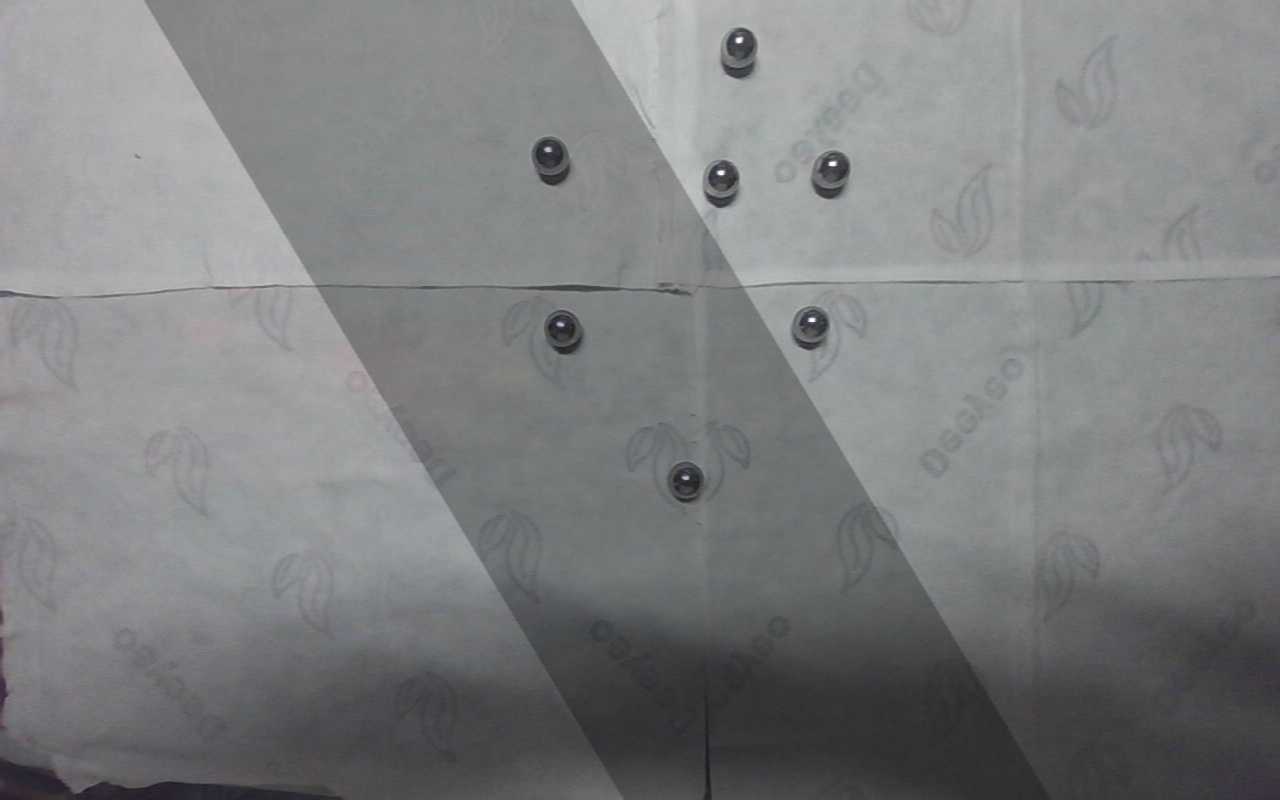ball: (809, 146, 855, 193), (790, 301, 832, 348), (665, 459, 707, 504), (530, 134, 570, 180), (701, 158, 741, 204), (542, 310, 584, 353), (721, 25, 760, 71)
